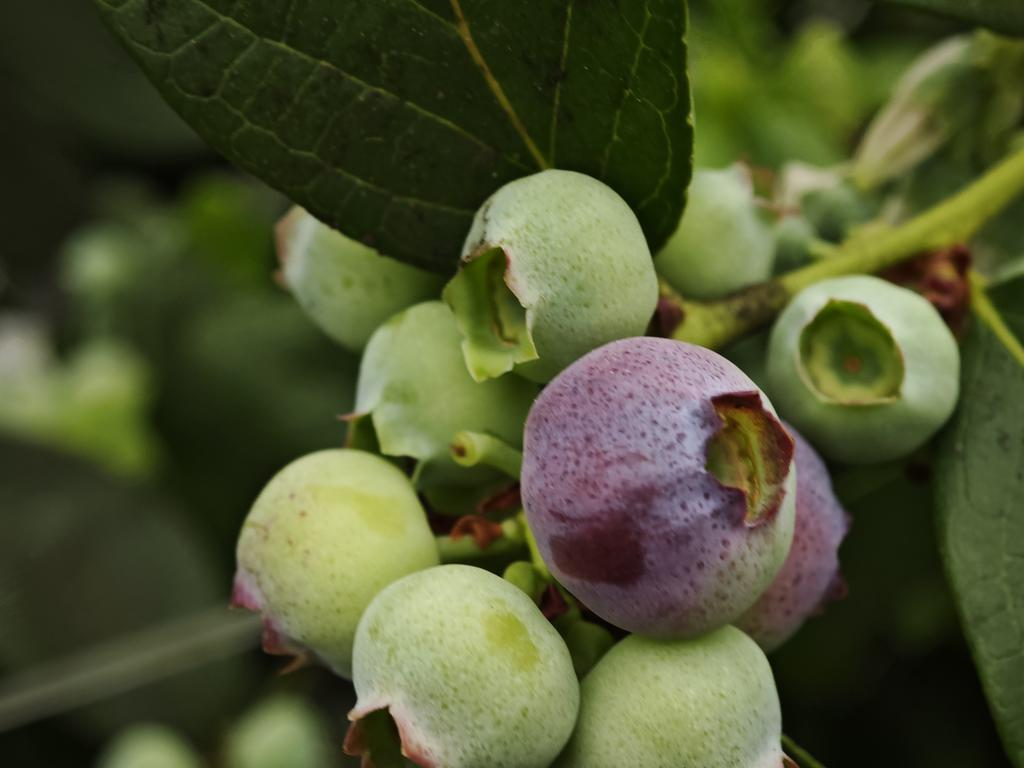Semi-RipeBlueBerry: (532, 333, 801, 634)
UnripeBlueBerry: (358, 567, 583, 768), (241, 444, 427, 680), (463, 161, 656, 349), (771, 270, 963, 447)
